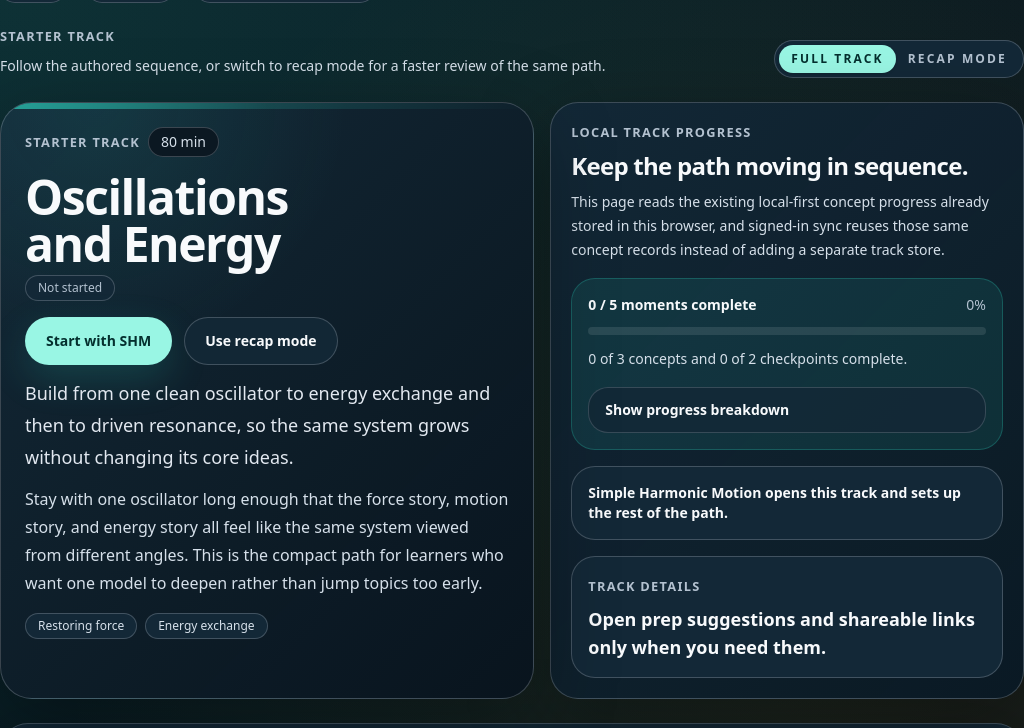
Scenario: StarterTrackDetailPage › renders authored track context with a visible primary CTA and collapsed track details
Expected: the heading "Oscillations and Energy" is shown, [25, 164, 288, 276]
Expected: the text "same system viewed from different angles" is shown, [25, 488, 508, 594]
Click the text "Track details": (644, 586) [588, 577, 700, 595]
(page scrolled)
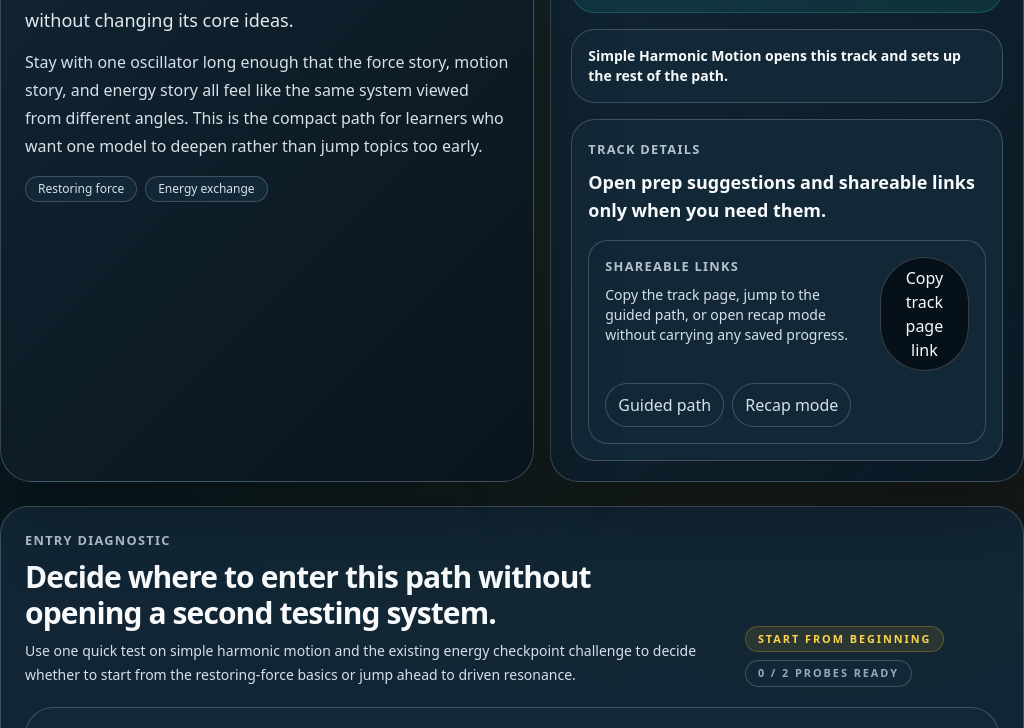
Now the button "Copy track page link" is shown, box [880, 257, 969, 371]
Now the button with aria-label "copy guided path link" is shown, box [605, 383, 724, 427]
